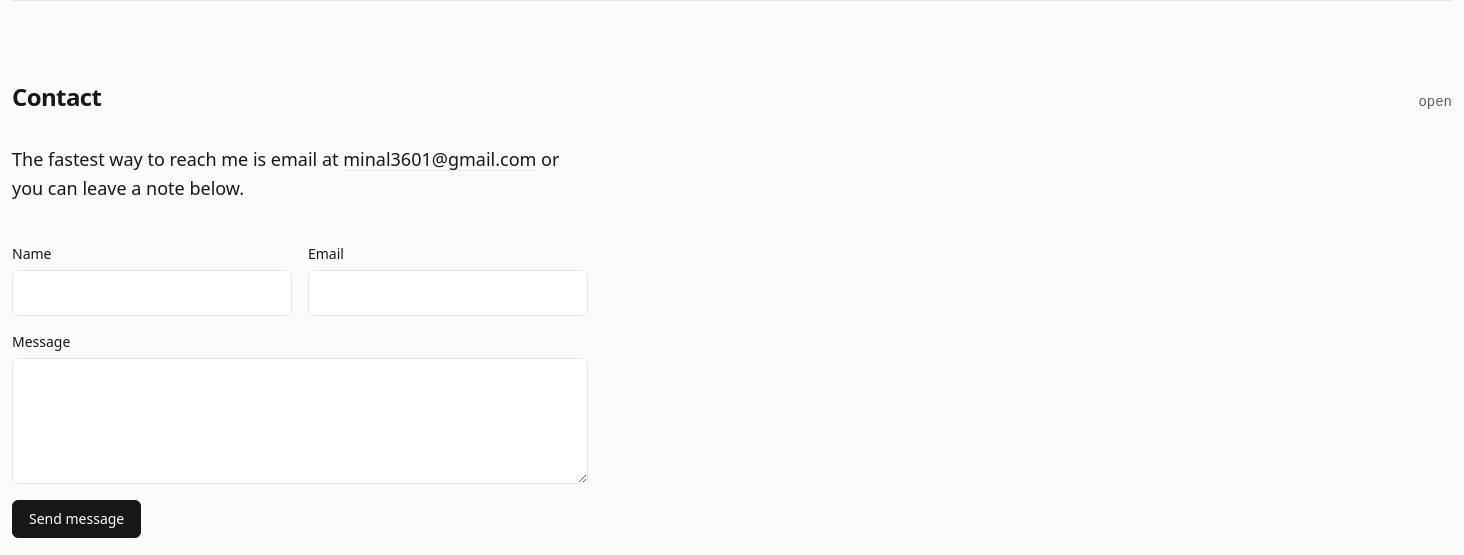
Contact form › posts the form to the endpoint and confirms success
This screenshot has width=1464, height=555.
Type "Ada" into the field labelled "Name". click: (152, 292)
box: [12,270,292,316]
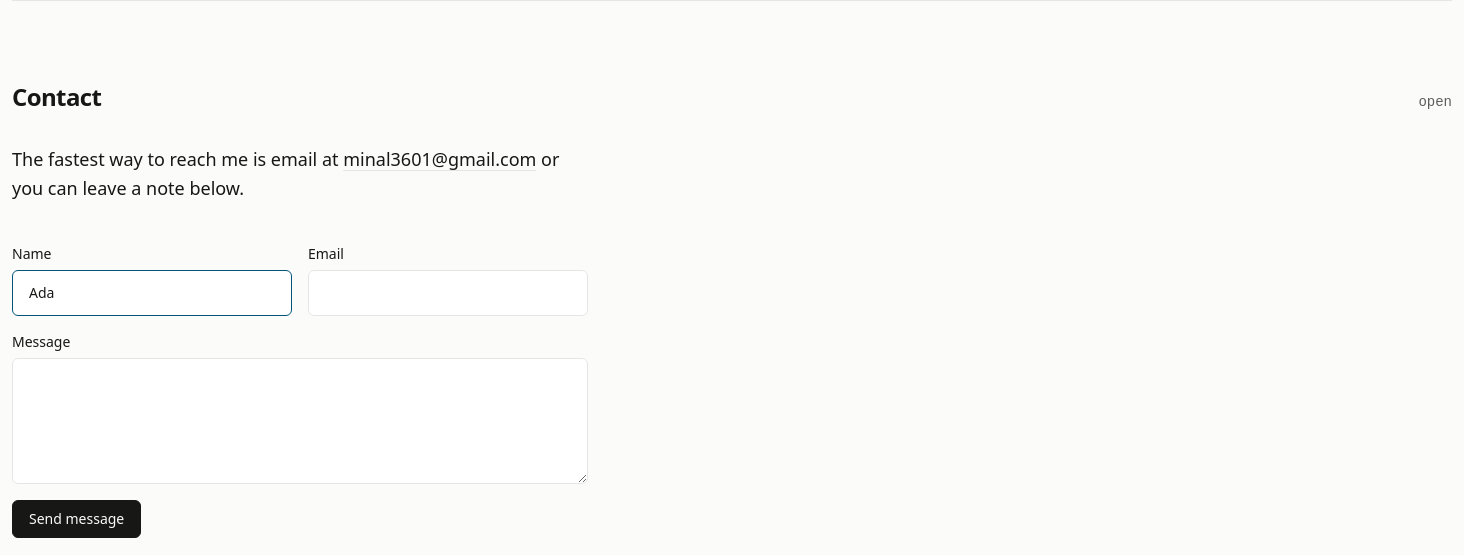
Type "ada@example.com" into the field labelled "Email". click: (448, 292)
box: [308,270,588,316]
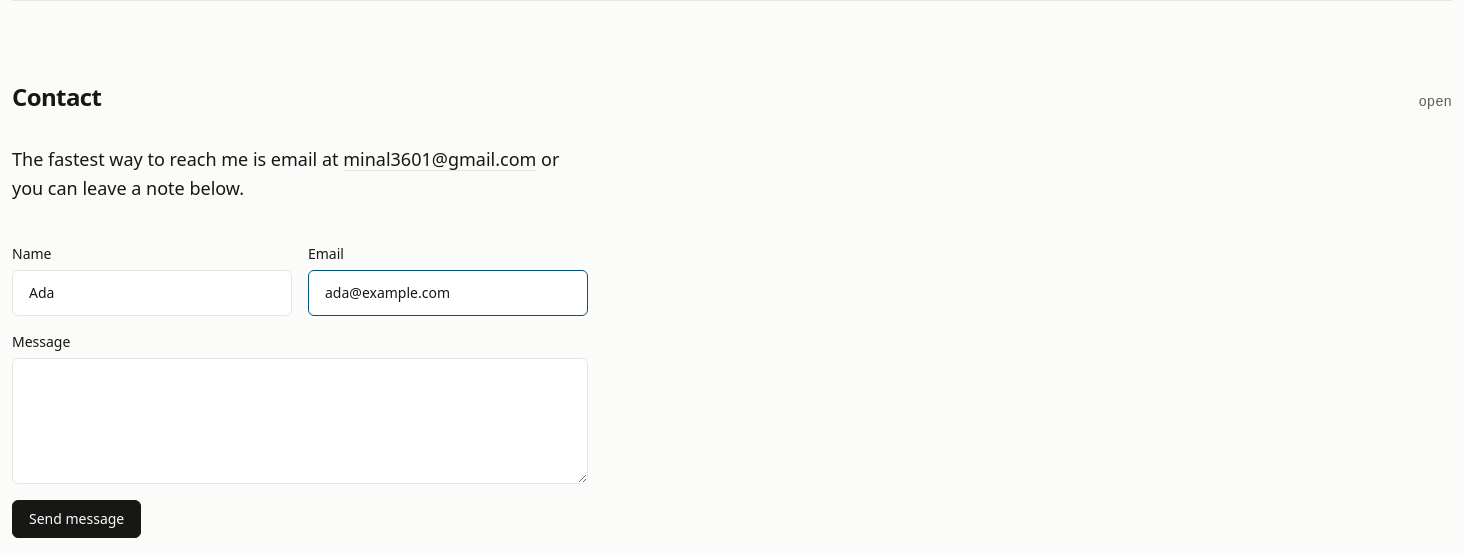
Type "Hello!" into the text box labelled "Message". click: (300, 420)
box: [12,358,588,484]
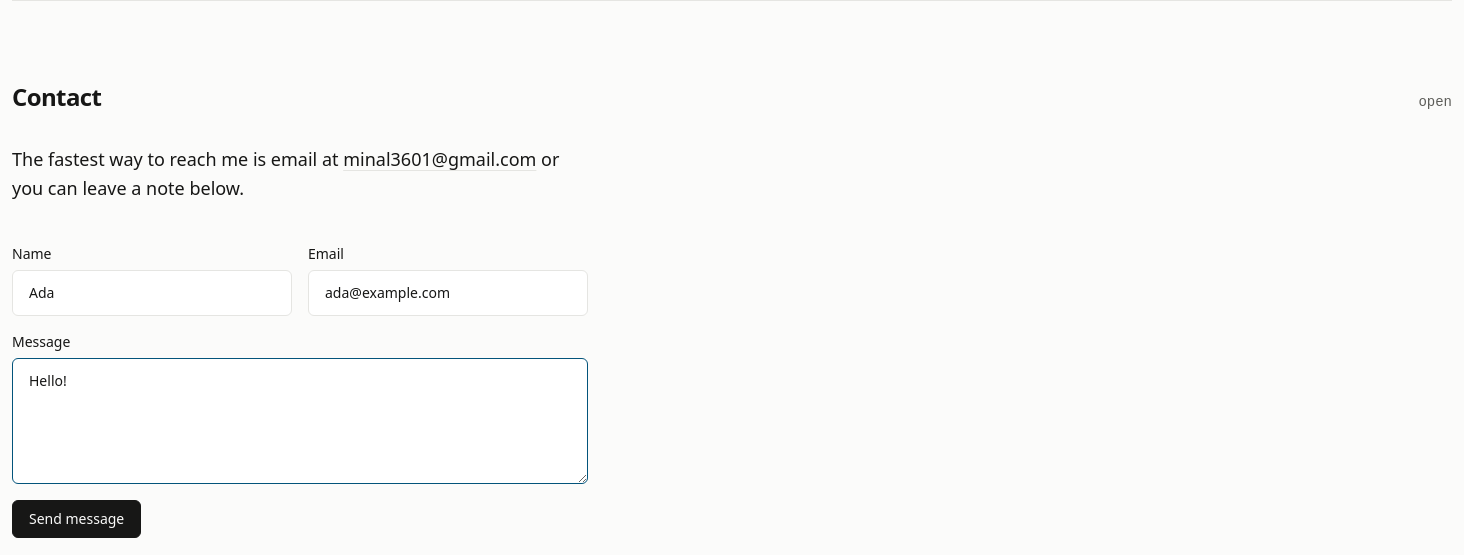
Click the button "Send message". click: (77, 518)
box: [12,500,141,538]
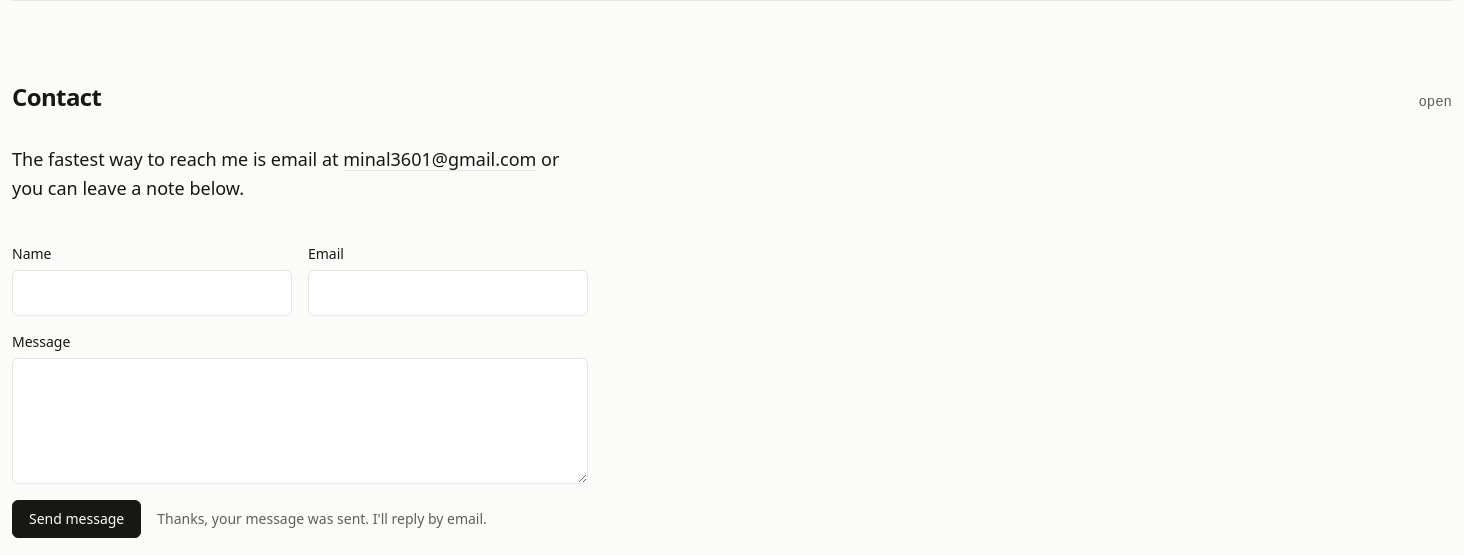
Check: the text "Thanks, your message was sent. I'll reply by email." is shown, box [157,508,487,528]
